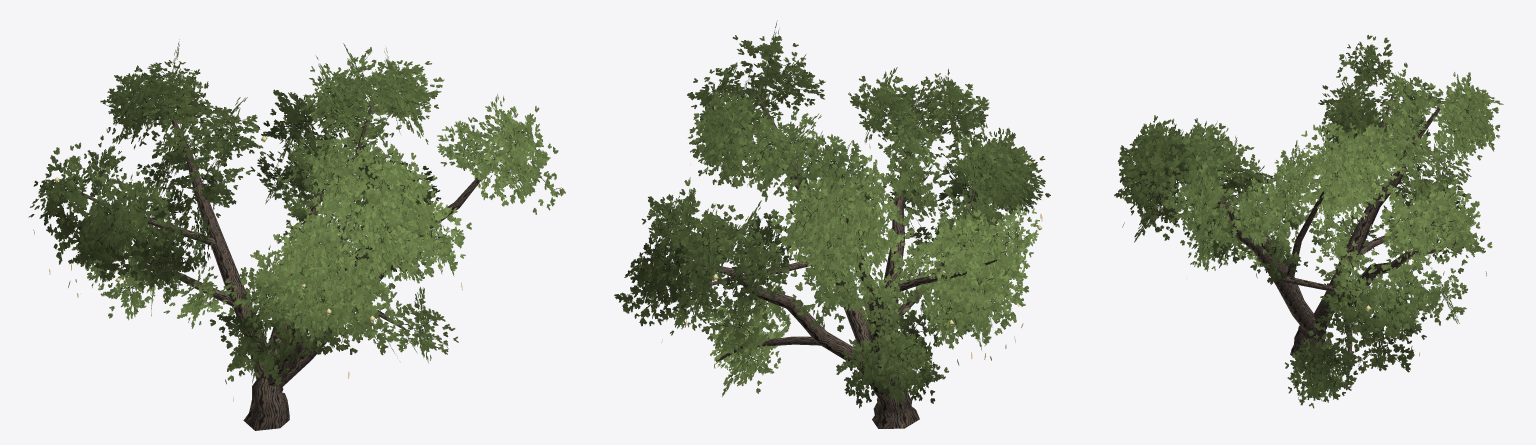
The model's file is old-c.lod1.glb.
The picture shows the model from 3 angles, left to right: view 1: azimuth 30°, elevation 25°; view 2: azimuth 150°, elevation 25°; view 3: azimuth 270°, elevation 25°; orthographic projection. The views are drawn at different scales.
Visible parts, largest first — view 1: foliage, bark; view 2: foliage, bark; view 3: foliage, bark.
Part boxes in pixels (x1,y1,x2,y2): foliage: [28, 39, 565, 385]; bark: [58, 100, 499, 430]; foliage: [614, 20, 1050, 410]; bark: [677, 93, 997, 428]; foliage: [1114, 35, 1503, 408]; bark: [1176, 86, 1455, 390].
Bounding box in the file's own units: 13.46 × 9.5 × 12.32.
4 materials, 2 textured.
